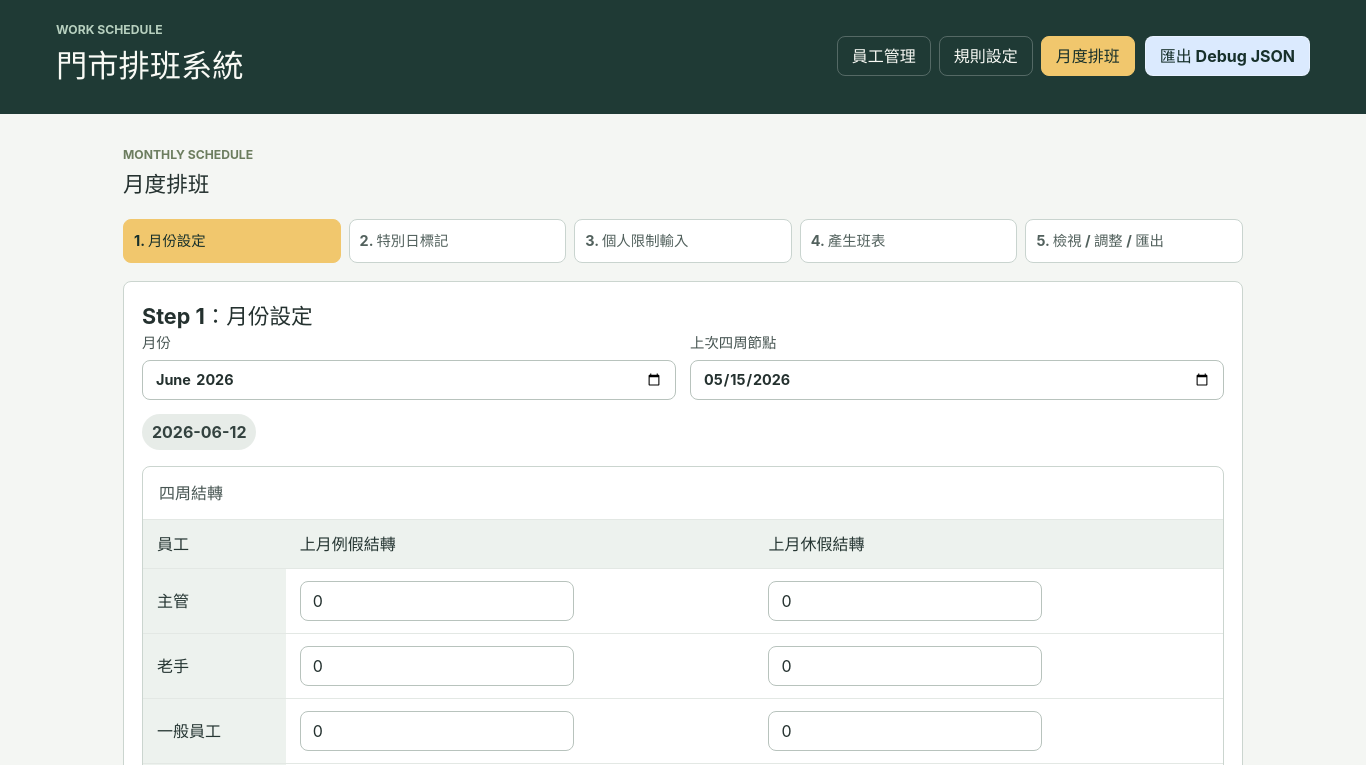
Test: App › persists employee edits in localStorage
Earlier steps of the test are not shown.
Click the tab "員工管理".
click(884, 56)  # box [837, 36, 931, 76]
(page scrolled)
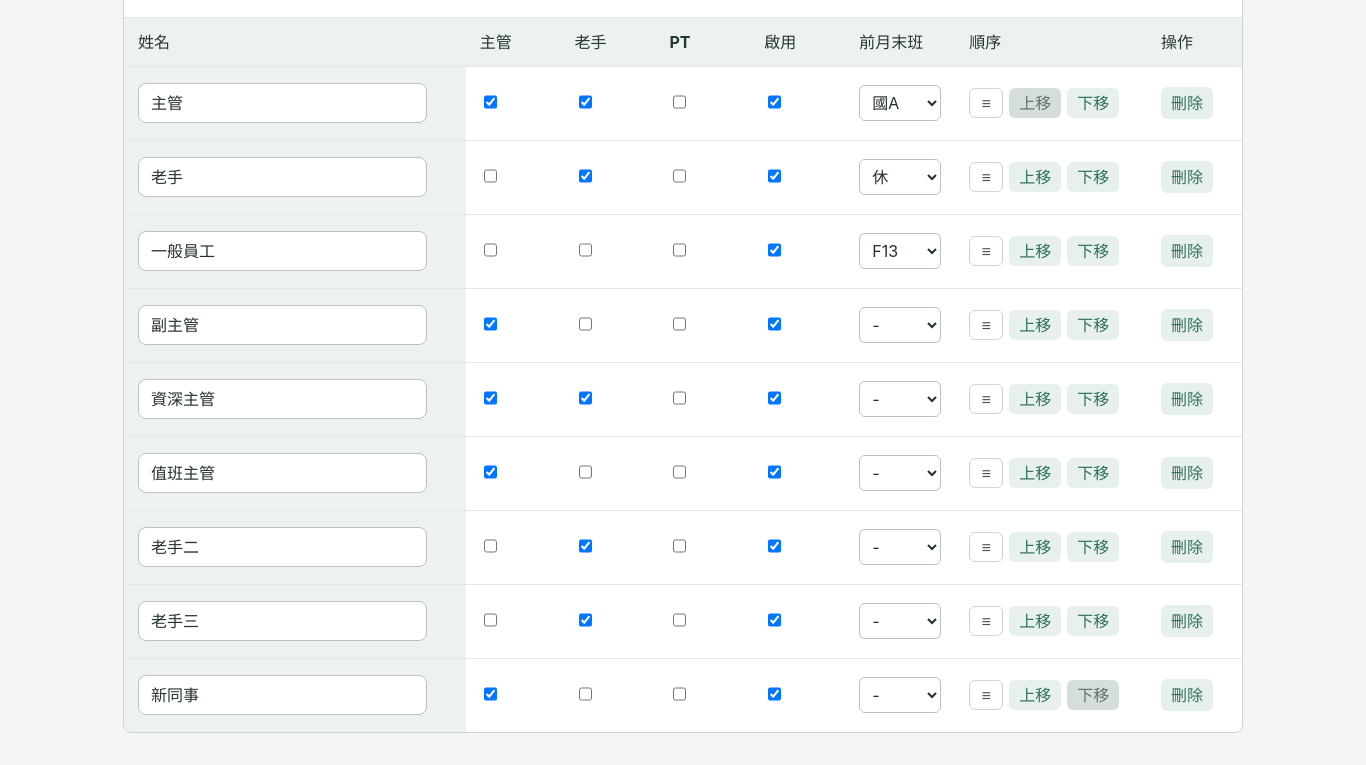
Now the field showing "新同事" is shown, box [138, 675, 427, 715]
Now the checkbox named "員工 9 主管" is checked, box [484, 674, 497, 714]
